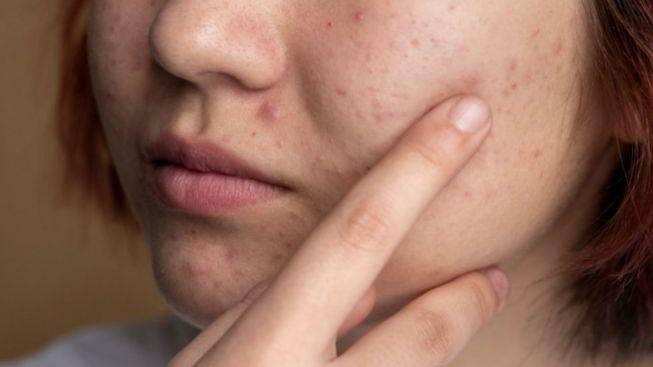Oily-Skin: (156, 1, 272, 80)
